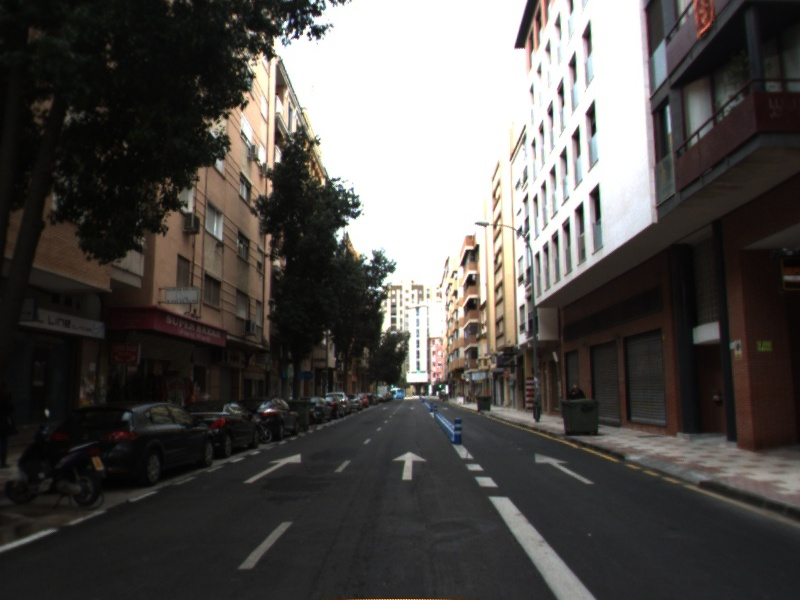STRAIGHT: (533, 451, 597, 486), (242, 452, 303, 485), (390, 450, 429, 482)
